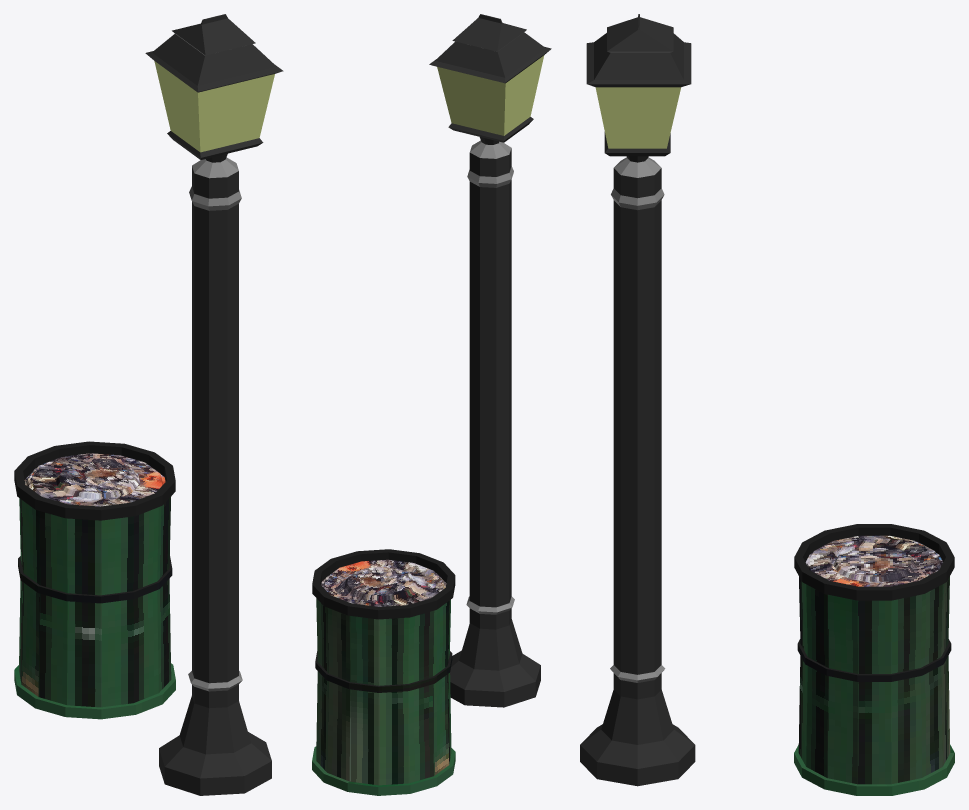
File: lightpost&trashcan.glb
3 renders of one model, left to right at view 1: azimuth 30°, elevation 25°; view 2: azimuth 150°, elevation 25°; view 3: azimuth 270°, elevation 25°, orthographic. The views are drawn at different scales.
Parts seen in each view (by area): view 1: Post, TrashCan; view 2: Post, TrashCan; view 3: Post, TrashCan.
Boxes of the visible parts, left/top/right/bottom form: Post: left=145, top=14, right=283, bottom=795; TrashCan: left=14, top=441, right=175, bottom=719; Post: left=429, top=14, right=551, bottom=707; TrashCan: left=312, top=549, right=455, bottom=795; Post: left=580, top=14, right=695, bottom=786; TrashCan: left=794, top=524, right=954, bottom=795.
Size of the model in its own units: 6.54 by 34.19 by 15.62.
6 materials, 2 textured.
